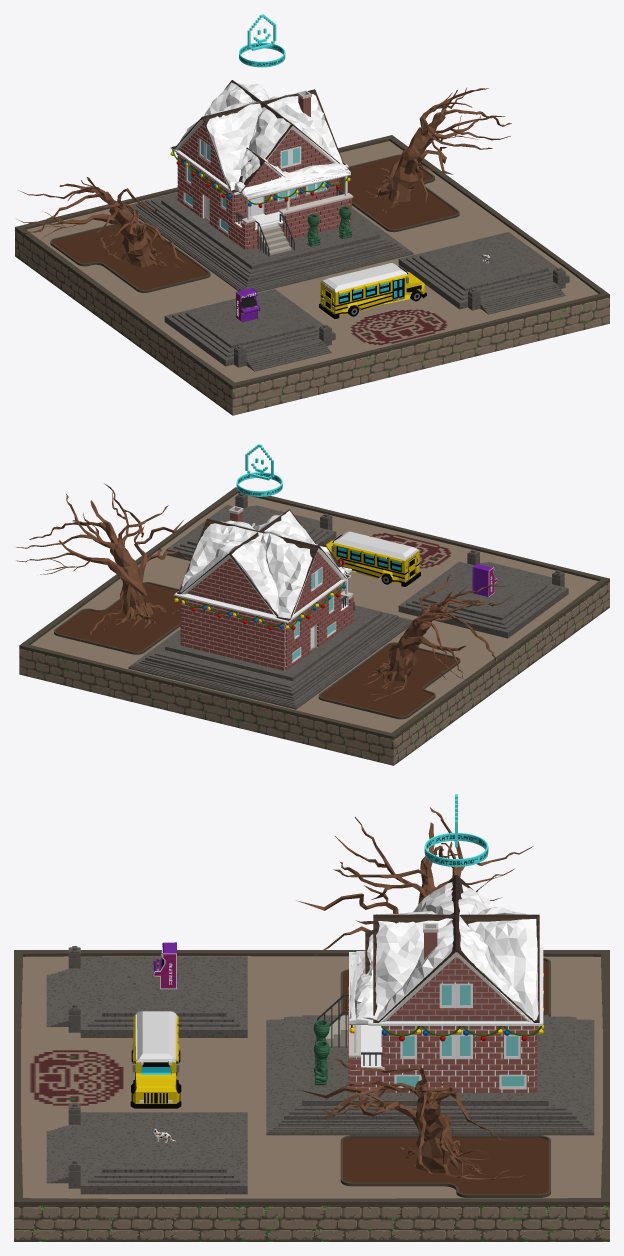
3 renders of one model, top to bottom at view 1: azimuth 30°, elevation 25°; view 2: azimuth 150°, elevation 25°; view 3: azimuth 270°, elevation 25°, orthographic. The views are drawn at different scales.
Visible parts, largest first — view 1: Cube.011, Cube.1419, VEHICLES_SCHOOL_BUS, TYPE_PREMIUM, OBJRANDOM_ARCADE; view 2: Cube.011, Cube.1419, VEHICLES_SCHOOL_BUS, TYPE_PREMIUM, OBJRANDOM_ARCADE; view 3: Cube.011, Cube.1419, VEHICLES_SCHOOL_BUS, TYPE_PREMIUM, OBJRANDOM_ARCADE.
Part boxes in pixels (<box>): Cube.011: <box>15,87,609,415</box>; Cube.1419: <box>170,80,353,256</box>; VEHICLES_SCHOOL_BUS: <box>319,263,426,318</box>; TYPE_PREMIUM: <box>239,14,285,67</box>; OBJRANDOM_ARCADE: <box>235,287,260,322</box>; Cube.011: <box>16,483,609,765</box>; Cube.1419: <box>174,506,354,670</box>; VEHICLES_SCHOOL_BUS: <box>326,531,420,586</box>; TYPE_PREMIUM: <box>236,444,282,496</box>; OBJRANDOM_ARCADE: <box>472,563,497,596</box>; Cube.011: <box>14,807,609,1241</box>; Cube.1419: <box>317,875,543,1092</box>; VEHICLES_SCHOOL_BUS: <box>130,1011,181,1108</box>; TYPE_PREMIUM: <box>424,794,488,866</box>; OBJRANDOM_ARCADE: <box>153,942,177,989</box>.
Bounding box in the file's own units: 5099 × 2470 × 4000.
50 materials, 6 textured.
